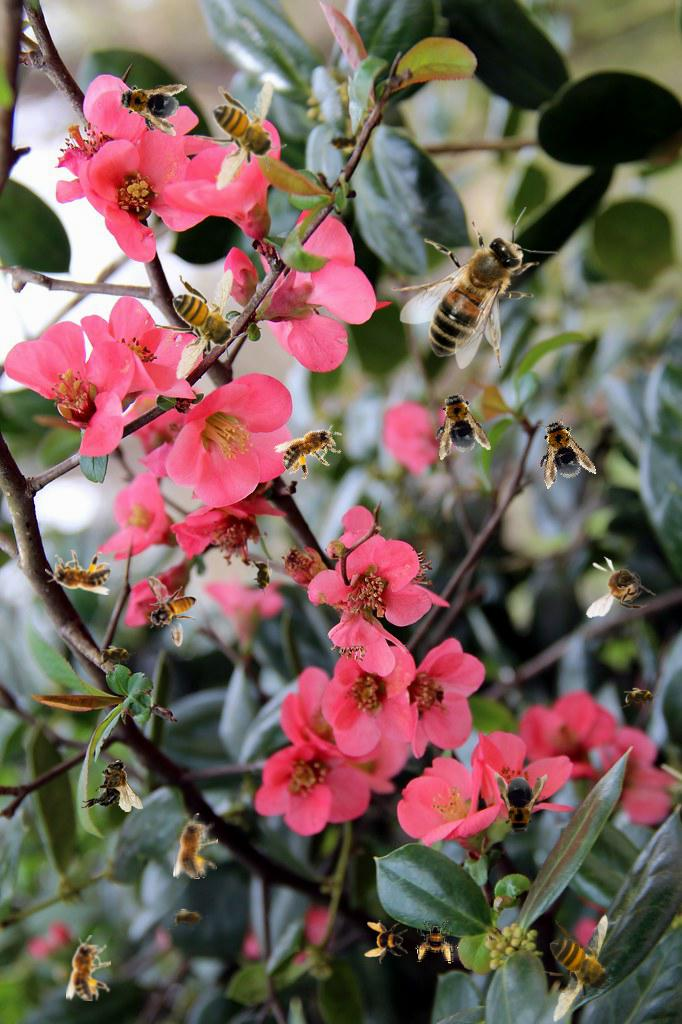Bee: (391, 207, 558, 369), (193, 80, 287, 191), (153, 269, 247, 380), (529, 913, 623, 1024), (524, 409, 598, 491), (272, 412, 352, 487), (424, 383, 492, 463), (111, 73, 187, 137), (584, 554, 657, 618), (147, 576, 197, 647), (495, 771, 547, 839), (81, 759, 143, 812), (173, 813, 218, 879), (66, 935, 111, 1001), (45, 550, 111, 595), (364, 920, 408, 964), (415, 920, 459, 964), (324, 131, 364, 153), (251, 556, 273, 596), (96, 645, 136, 667), (620, 687, 660, 709), (168, 908, 208, 930)
